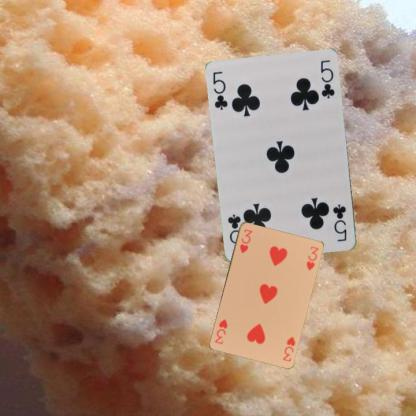3h: (237, 226, 254, 254), (280, 334, 296, 362)
5c: (210, 70, 230, 112), (330, 202, 349, 243)
